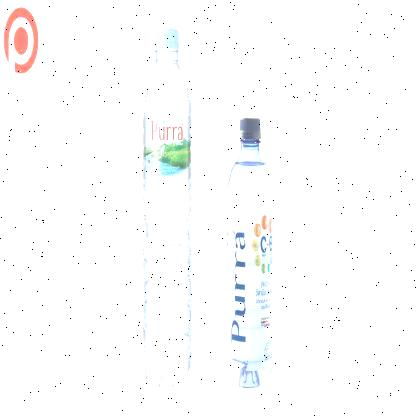Plastic Bottle: (144, 28, 192, 388), (226, 118, 274, 389)
